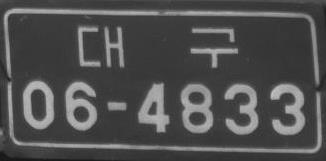0: (22, 78, 55, 130)
3: (269, 83, 305, 135), (224, 82, 258, 135)
4: (137, 81, 170, 133)
6: (63, 81, 97, 132)
8: (180, 82, 214, 133)
대구_D: (76, 23, 237, 69)
